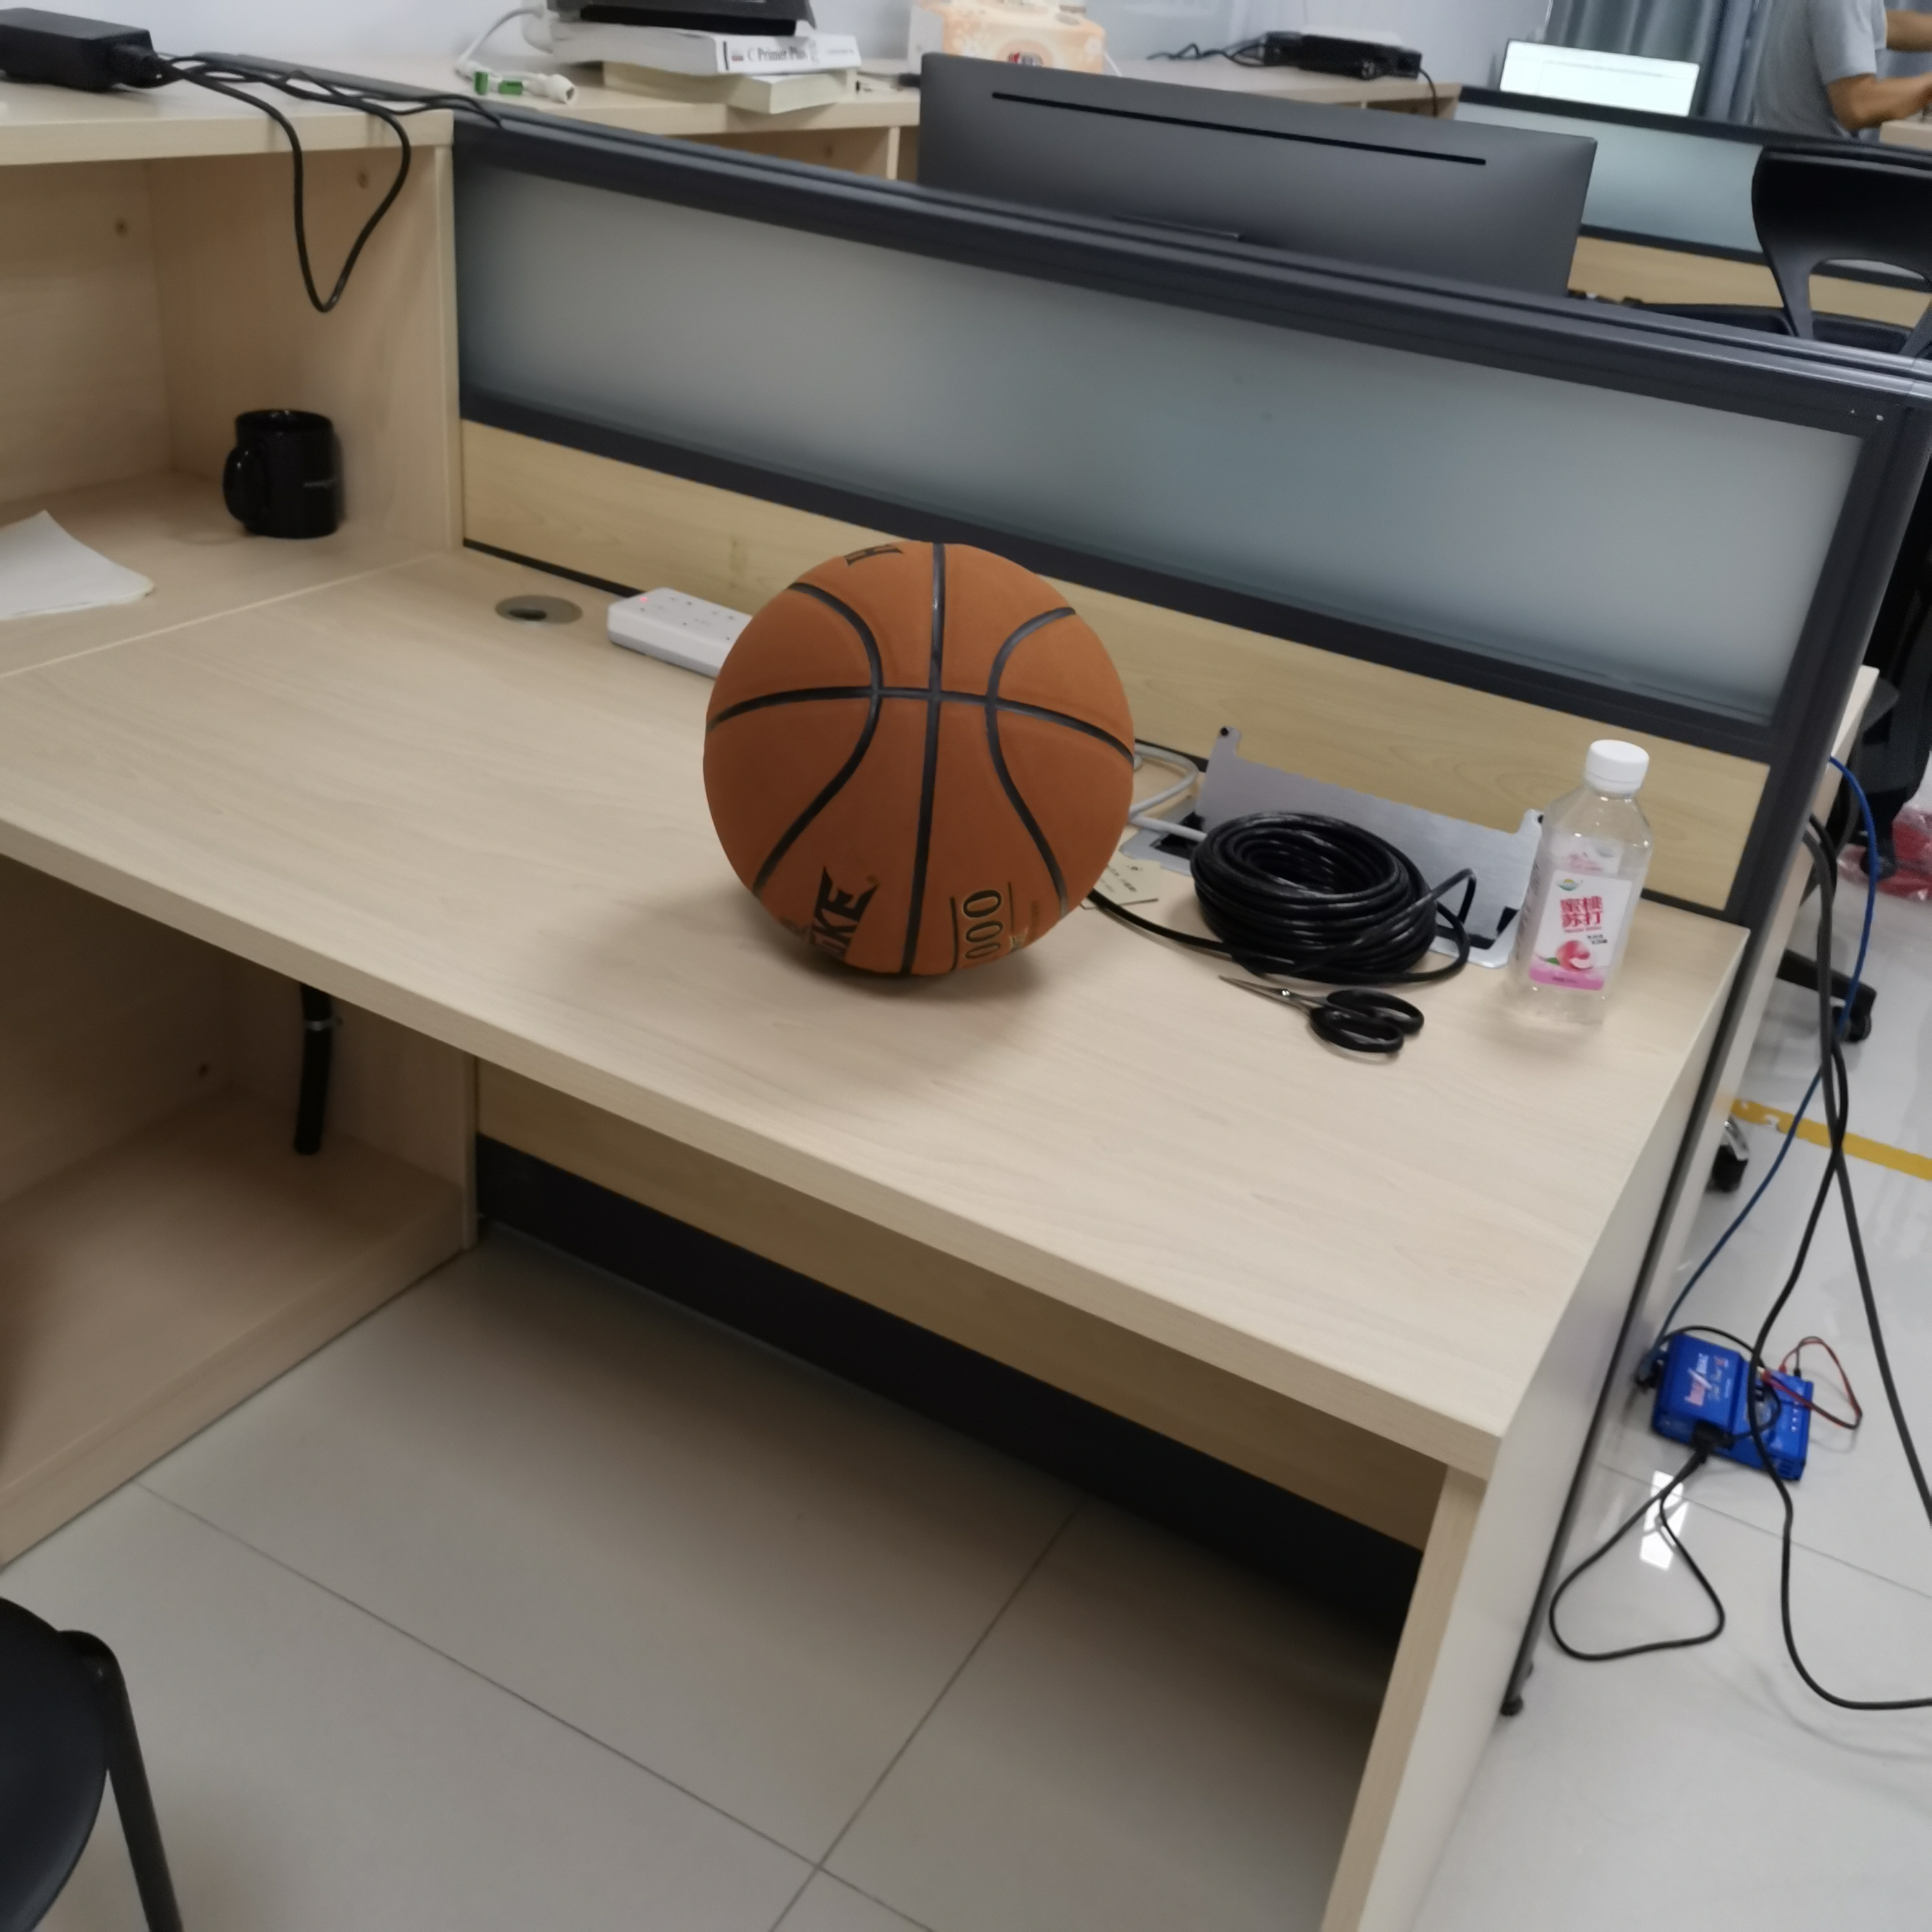basketball: (702, 540, 1136, 984)
